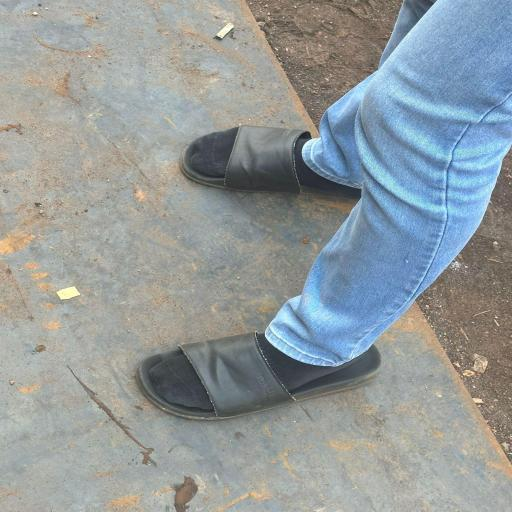not_safety_shoe: (128, 321, 390, 418), (179, 106, 377, 204)
